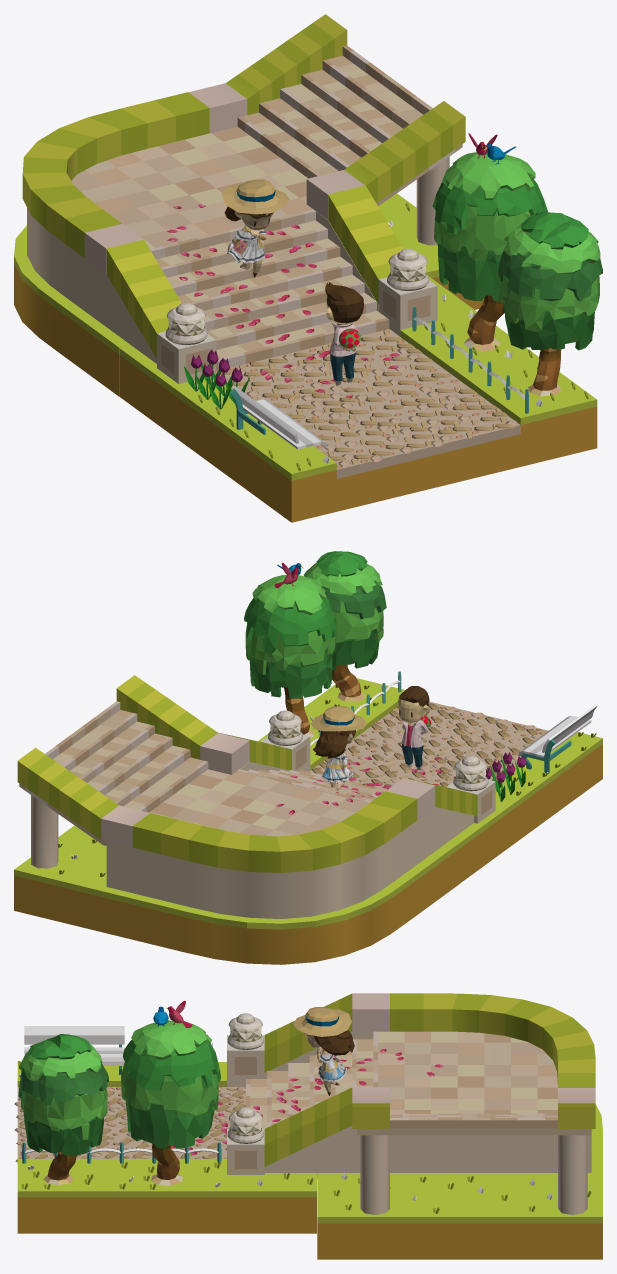
File: 0016_propose.fbx
The picture shows the model from 3 angles, top to bottom: view 1: azimuth 30°, elevation 25°; view 2: azimuth 150°, elevation 25°; view 3: azimuth 270°, elevation 25°; orthographic projection. The views are drawn at different scales.
Visible parts, largest first — view 1: Ground01, Stair_Mid001, Stair_Mid_Handrail001, Stair_Hi_Handrail02 (×2), Tree02, Tree01, Stair_Row_Handrail01 (×2), Ground02, Stair_Edge03 (×3), Stair_Deco02 (×2), Stair03 (×3), Stair_Edge05 (×2) (+16 smaller); view 2: Stair_Mid001, Ground02, Ground01, Stair_Mid_Handrail001, Stair_Hi_Handrail02 (×2), Tree01, Tree02, Stair_Deco01 (×2), Stair04 (×2), Stair_Row_Handrail01 (×2), Stair01 (×2), Stair_Column (+14 smaller); view 3: Stair_Mid001, Ground02, Ground01, Stair_Mid_Handrail001, Tree01, Tree02, Stair_Row_Handrail01 (×2), Stair_Column (×2), Stair_Hi_Handrail02 (×2), Stair_Deco02 (×2), Stair_Deco01 (×2), Stair03 (×3) (+9 smaller).
Boxes of the visible parts, x1=… form: Ground01: x1=119, y1=276, x2=597, y2=522; Stair_Mid001: x1=27, y1=126, x2=378, y2=363; Stair_Mid_Handrail001: x1=22, y1=92, x2=209, y2=273; Stair_Hi_Handrail02 (×2): x1=189, y1=14, x2=465, y2=219; Tree02: x1=498, y1=212, x2=602, y2=350; Tree01: x1=432, y1=152, x2=547, y2=301; Stair_Row_Handrail01 (×2): x1=106, y1=185, x2=403, y2=358; Ground02: x1=14, y1=193, x2=484, y2=396; Stair_Edge03 (×3): x1=172, y1=116, x2=389, y2=370; Stair_Deco02 (×2): x1=157, y1=277, x2=437, y2=383; Stair03 (×3): x1=156, y1=220, x2=373, y2=338; Stair_Edge05 (×2): x1=161, y1=227, x2=364, y2=330; Stair_Mid001: x1=106, y1=762, x2=473, y2=918; Ground02: x1=14, y1=825, x2=458, y2=964; Ground01: x1=258, y1=678, x2=602, y2=884; Stair_Mid_Handrail001: x1=132, y1=778, x2=435, y2=872; Stair_Hi_Handrail02 (×2): x1=17, y1=675, x2=249, y2=847; Tree01: x1=244, y1=575, x2=336, y2=698; Tree02: x1=303, y1=551, x2=386, y2=669; Stair_Deco01 (×2): x1=268, y1=710, x2=488, y2=791; Stair04 (×2): x1=70, y1=721, x2=186, y2=801; Stair_Row_Handrail01 (×2): x1=218, y1=732, x2=477, y2=816; Stair01 (×2): x1=53, y1=710, x2=204, y2=809; Stair_Column: x1=31, y1=795, x2=58, y2=868; Stair_Mid001: x1=264, y1=1031, x2=591, y2=1178; Ground02: x1=317, y1=1104, x2=602, y2=1259; Ground01: x1=17, y1=1062, x2=316, y2=1233; Stair_Mid_Handrail001: x1=352, y1=993, x2=595, y2=1087; Tree01: x1=121, y1=1020, x2=220, y2=1148; Tree02: x1=18, y1=1034, x2=108, y2=1156; Stair_Row_Handrail01 (×2): x1=264, y1=993, x2=352, y2=1166; Stair_Column (×2): x1=360, y1=1135, x2=587, y2=1214; Stair_Hi_Handrail02 (×2): x1=352, y1=1087, x2=595, y2=1128; Stair_Deco02 (×2): x1=227, y1=1035, x2=264, y2=1174; Stair_Deco01 (×2): x1=227, y1=1013, x2=263, y2=1143; Stair03 (×3): x1=271, y1=1039, x2=373, y2=1125.
Bounding box in the file's own units: 11.73 × 7.68 × 18.69.
